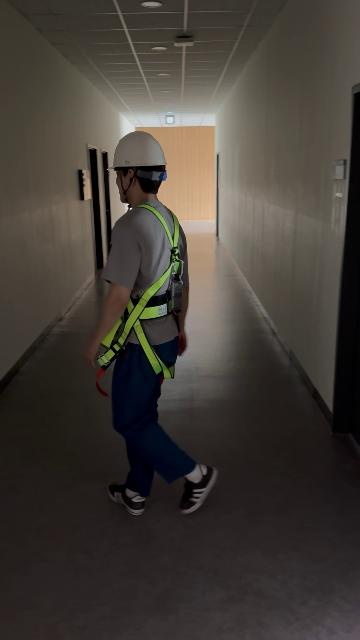helmet_worn: (105, 130, 168, 170)
shoe_not_worn: (179, 463, 217, 514), (108, 481, 146, 516)
vest_worn: (93, 209, 187, 383)
